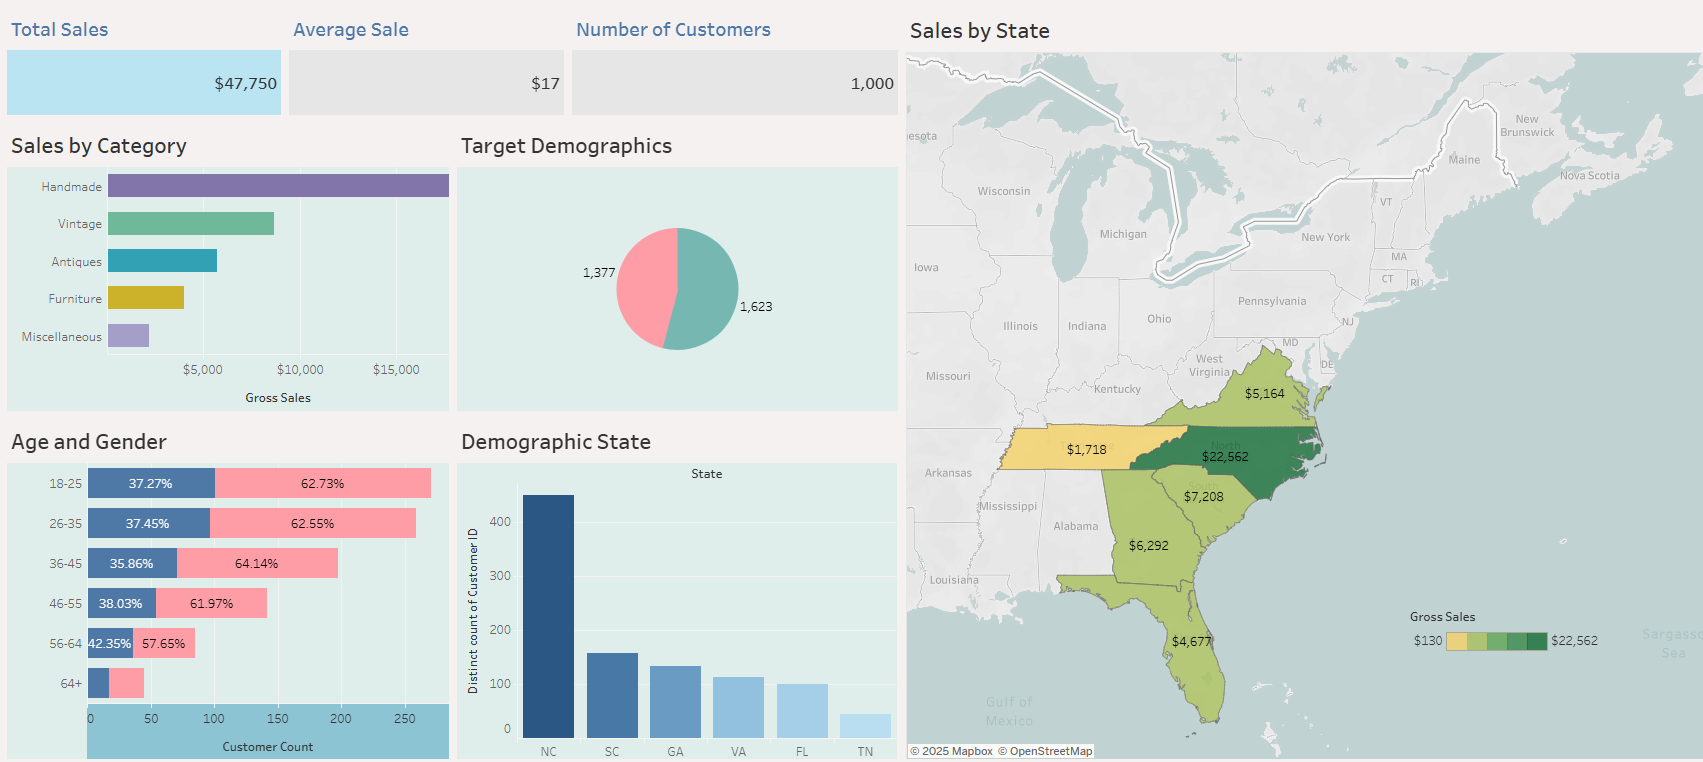

The page's visual inventory and layout, read from the dashboard file:
{"tool":"tableau","page":{"name":"Dashboard 1","canvas":[1000,1000],"units":"permille","ordinal":0},"visuals":[{"type":"worksheet","title":"Total Sales","mark":"Automatic","box":[4.8,10,147.5,147.8]},{"type":"worksheet","title":"Average Sale","mark":"Automatic","box":[152.3,10,148.7,147.8]},{"type":"worksheet","title":"Number of Customers","mark":"Automatic","box":[301,10,175,147.8]},{"type":"worksheet","title":"Sales by State","mark":"Multipolygon","box":[476.1,10,422.6,980]},{"type":"legend","title":"Demographic State","param":"[federated.1wxnuv5137b39z15x1inv0mmtqh0].[none:State:nk]","box":[898.6,10,96.6,194.8]},{"type":"worksheet","title":"Sales by Category","mark":"Automatic","cols":["Gross Sales"],"box":[4.8,157.8,235.6,382.6]},{"type":"worksheet","title":"Target Demographics","mark":"Pie","box":[240.4,157.8,235.6,382.6]},{"type":"legend","title":"Target Demographics","param":"[federated.1wxnuv5137b39z15x1inv0mmtqh0].[__tableau_internal_object_id__].[cnt:C","box":[898.6,204.8,96.6,63.7]},{"type":"legend","title":"Target Demographics","param":"[federated.1wxnuv5137b39z15x1inv0mmtqh0].[Age & Gender (group)]","box":[898.6,268.4,96.6,89.9]},{"type":"worksheet","title":"Age and Gender","mark":"Automatic","rows":["Age"],"cols":["Customer ID"],"box":[4.8,540.4,235.6,449.6]},{"type":"worksheet","title":"Demographic State","mark":"Bar","rows":["Customer Demo & Psych_982691A7A48C4BF89DF6CD6BCF15C12F"],"cols":["State"],"box":[240.4,540.4,235.6,449.6]},{"type":"legend","title":"Sales by State","param":"[federated.00y54oq07qn5561471t2p1yv9u45].[sum:Gross Sales:qk]","box":[751.8,789.3,102.5,107.2]}]}

Visuals, with their boxes on the dashboard's canvas, which has no fixed pixel size, in thousandths of its width and height (x1, y1, x2, y2). These are canvas units, not pixel positions in the 1703x762 screenshot, which may show the page scaled, cropped or inside an application window:
"Total Sales" worksheet: x1=5, y1=10, x2=152, y2=158
"Average Sale" worksheet: x1=152, y1=10, x2=301, y2=158
"Number of Customers" worksheet: x1=301, y1=10, x2=476, y2=158
"Sales by State" worksheet (Multipolygon marks): x1=476, y1=10, x2=899, y2=990
"Demographic State" legend: x1=899, y1=10, x2=995, y2=205
"Sales by Category" worksheet: x1=5, y1=158, x2=240, y2=540
"Target Demographics" worksheet (Pie marks): x1=240, y1=158, x2=476, y2=540
"Target Demographics" legend: x1=899, y1=205, x2=995, y2=268
"Target Demographics" legend: x1=899, y1=268, x2=995, y2=358
"Age and Gender" worksheet: x1=5, y1=540, x2=240, y2=990
"Demographic State" worksheet (Bar marks): x1=240, y1=540, x2=476, y2=990
"Sales by State" legend: x1=752, y1=789, x2=854, y2=896
